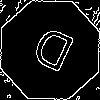D: (25, 25, 77, 82)
